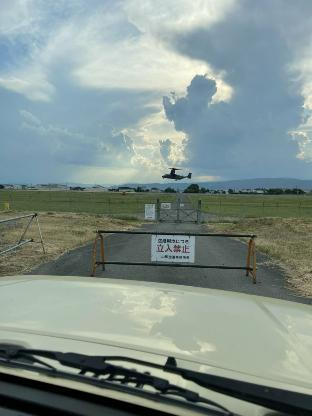Tornado: (161, 167, 191, 181)
